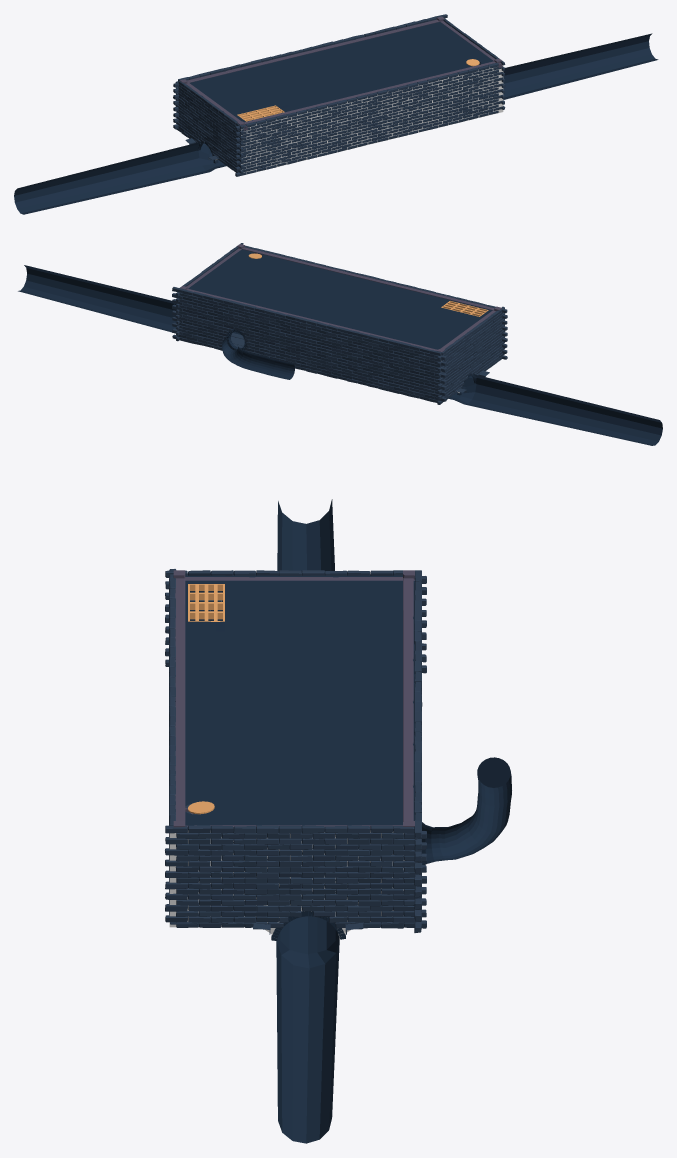
The model's file is levelColored.fbx.
3 views of the same model, one above another, from view 1: azimuth 30°, elevation 25°; view 2: azimuth 150°, elevation 25°; view 3: azimuth 270°, elevation 25° (orthographic). The views are drawn at different scales.
Parts seen in each view (by area): view 1: brickLeft, roof, Cube, wallLeft, brickBack, columnFloor, brickRight, columnFloorFrontBack, grid; view 2: brickRight, roof, Cube, brickBack, columnFloor, brickLeft, columnFloorFrontBack, grid; view 3: roof, brickBack, Cube, columnFloor, brickRight, brickLeft, grid, columnFloorFrontBack.
Boxes of the visible parts, x1,y1,x2,y2 form: brickLeft: [235, 63, 502, 176]; roof: [190, 22, 493, 122]; Cube: [14, 33, 658, 214]; wallLeft: [241, 65, 503, 174]; brickBack: [175, 17, 505, 173]; columnFloor: [187, 19, 495, 124]; brickRight: [173, 14, 447, 129]; columnFloorFrontBack: [186, 21, 502, 130]; grid: [237, 105, 284, 121]; brickRight: [172, 287, 446, 402]; roof: [188, 249, 492, 349]; Cube: [18, 265, 662, 445]; brickBack: [175, 243, 505, 404]; columnFloor: [186, 247, 494, 350]; brickLeft: [245, 245, 507, 359]; columnFloorFrontBack: [186, 248, 495, 349]; grid: [441, 301, 488, 316]; roof: [185, 574, 414, 829]; brickBack: [165, 570, 426, 928]; Cube: [276, 499, 511, 1143]; columnFloor: [175, 578, 413, 821]; brickRight: [414, 570, 422, 932]; brickLeft: [169, 569, 175, 915]; grid: [188, 584, 224, 621]; columnFloorFrontBack: [169, 577, 414, 835].
Size of the model in its own units: 4372 by 468 by 1034.
